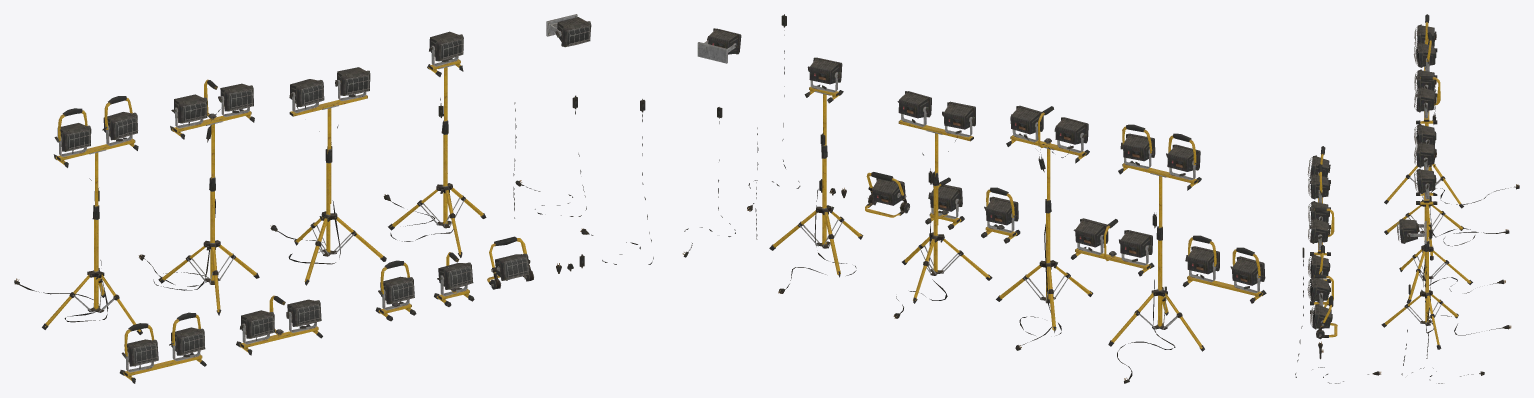
File: flood_lights.glb
The picture shows the model from 3 angles, left to right: view 1: azimuth 30°, elevation 25°; view 2: azimuth 150°, elevation 25°; view 3: azimuth 270°, elevation 25°; orthographic projection. The views are drawn at different scales.
Visible parts, largest first — view 1: flood_lights_standing_double_c_stand, flood_lights_standing_single_stand, flood_lights_standing_double_b_stand, flood_lights_standing_double_a_stand, flood_lights_wall_light, flood_lights_standing_single_light, flood_lights_standing_double_b_light_01, flood_lights_standing_double_c_light_02, flood_lights_standing_double_b_light_02, flood_lights_floor_double_b_light_01, flood_lights_standing_double_c_light_01, flood_lights_floor_double_b_light_02 (+11 smaller); view 2: flood_lights_standing_single_stand, flood_lights_standing_double_c_stand, flood_lights_standing_double_b_stand, flood_lights_standing_double_a_stand, flood_lights_floor_double_b_light_01, flood_lights_standing_double_c_light_01, flood_lights_standing_double_b_light_01, flood_lights_standing_single_light, flood_lights_floor_double_b_light_02, flood_lights_standing_double_a_bar, flood_lights_standing_double_c_light_02, flood_lights_floor_double_a_light_01 (+12 smaller); view 3: flood_lights_standing_single_stand, flood_lights_standing_double_c_stand, flood_lights_standing_double_b_stand, flood_lights_standing_double_b_light_02, flood_lights_floor_single_b_light, flood_lights_standing_double_c_light_02, flood_lights_standing_single_light, flood_lights_wall_light, flood_lights_floor_double_b_light_02, flood_lights_standing_double_a_light_02, flood_lights_floor_single_light_c, flood_lights_floor_double_a_light_02 (+11 smaller).
Part boxes in pixels (x1=…): flood_lights_standing_double_c_stand: x1=294, y1=148, x2=386, y2=285; flood_lights_standing_single_stand: x1=388, y1=120, x2=486, y2=257; flood_lights_standing_double_b_stand: x1=158, y1=177, x2=259, y2=315; flood_lights_standing_double_a_stand: x1=42, y1=205, x2=142, y2=334; flood_lights_wall_light: x1=555, y1=17, x2=591, y2=47; flood_lights_standing_single_light: x1=429, y1=31, x2=463, y2=61; flood_lights_standing_double_b_light_01: x1=171, y1=94, x2=207, y2=123; flood_lights_standing_double_c_light_02: x1=335, y1=67, x2=370, y2=95; flood_lights_standing_double_b_light_02: x1=218, y1=83, x2=253, y2=111; flood_lights_floor_double_b_light_01: x1=240, y1=310, x2=274, y2=338; flood_lights_standing_double_c_light_01: x1=289, y1=79, x2=324, y2=107; flood_lights_floor_double_b_light_02: x1=286, y1=299, x2=321, y2=326; flood_lights_standing_single_stand: x1=769, y1=144, x2=863, y2=277; flood_lights_standing_double_c_stand: x1=902, y1=171, x2=992, y2=303; flood_lights_standing_double_b_stand: x1=996, y1=199, x2=1093, y2=332; flood_lights_standing_double_a_stand: x1=1108, y1=226, x2=1204, y2=351; flood_lights_floor_double_b_light_01: x1=1119, y1=230, x2=1152, y2=257; flood_lights_standing_double_c_light_01: x1=942, y1=101, x2=975, y2=129; flood_lights_standing_double_b_light_01: x1=1054, y1=117, x2=1088, y2=144; flood_lights_standing_single_light: x1=807, y1=57, x2=842, y2=84; flood_lights_floor_double_b_light_02: x1=1073, y1=218, x2=1108, y2=247; flood_lights_standing_double_a_bar: x1=1118, y1=161, x2=1201, y2=268; flood_lights_standing_double_c_light_02: x1=897, y1=91, x2=931, y2=118; flood_lights_floor_double_a_light_01: x1=1231, y1=256, x2=1265, y2=285; flood_lights_standing_single_stand: x1=1381, y1=241, x2=1458, y2=349; flood_lights_standing_double_c_stand: x1=1399, y1=204, x2=1472, y2=303; flood_lights_standing_double_b_stand: x1=1384, y1=199, x2=1463, y2=260; flood_lights_standing_double_b_light_02: x1=1414, y1=87, x2=1436, y2=112; flood_lights_floor_single_b_light: x1=1307, y1=277, x2=1330, y2=302; flood_lights_standing_double_c_light_02: x1=1414, y1=142, x2=1436, y2=167; flood_lights_standing_single_light: x1=1414, y1=168, x2=1436, y2=193; flood_lights_wall_light: x1=1397, y1=218, x2=1419, y2=243; flood_lights_floor_double_b_light_02: x1=1308, y1=218, x2=1330, y2=243; flood_lights_standing_double_a_light_02: x1=1413, y1=42, x2=1436, y2=67; flood_lights_floor_single_light_c: x1=1310, y1=304, x2=1332, y2=329; flood_lights_floor_double_a_light_02: x1=1308, y1=174, x2=1330, y2=199.
Bounding box in the file's own units: 4.6 × 1.81 × 2.11.
2 materials, 2 textured.
